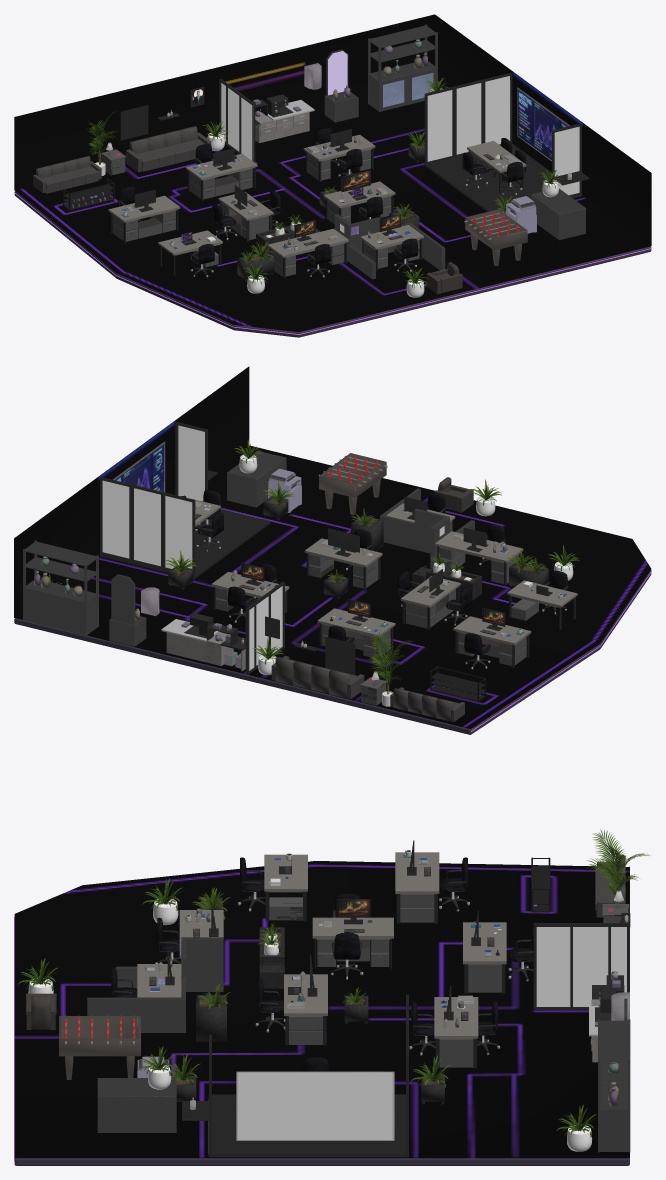
The model's file is office.desktop.1c16611fe181.glb.
The picture shows the model from 3 angles, top to bottom: view 1: azimuth 30°, elevation 25°; view 2: azimuth 150°, elevation 25°; view 3: azimuth 270°, elevation 25°; orthographic projection. The views are drawn at different scales.
Parts seen in each view (by area): view 1: Plane.005, wall 1, Plane.006, Plane.020, Cube.002, Desktop plinth, Cube.003, Plane.031, Cube.021, Cube.016, instance_1.002, instance_0.002 (+13 smaller); view 2: Plane.005, wall 1, Plane.006, Plane.020, Desktop plinth, Cube.002, Cube.003, Cube.016, Cube.021, Plane.031, instance_0.002, instance_1.002 (+10 smaller); view 3: Plane.005, wall 1, Plane.006, Cube.003, Plane.020, Desktop plinth, Cube.016, instance_1.002, instance_0.002, instance_2.002, instance_3.002, model_4 (+15 smaller).
Boxes of the visible parts, x1,y1,x2,y2 form: Plane.005: (14, 14, 651, 332); wall 1: (324, 24, 585, 279); Plane.006: (219, 72, 581, 211); Plane.020: (113, 149, 419, 276); Cube.002: (33, 126, 211, 193); Desktop plinth: (14, 191, 651, 337); Cube.003: (158, 192, 423, 278); Plane.031: (106, 63, 589, 239); Cube.021: (253, 94, 314, 143); Cube.016: (237, 141, 505, 281); instance_1.002: (108, 195, 180, 243); instance_0.002: (186, 153, 257, 201); Plane.005: (14, 366, 651, 729); wall 1: (23, 441, 474, 646); Plane.006: (100, 422, 284, 674); Plane.020: (216, 521, 526, 665); Desktop plinth: (14, 570, 651, 734); Cube.002: (271, 656, 464, 721); Cube.003: (386, 503, 577, 630); Cube.016: (168, 495, 548, 600); Cube.021: (161, 613, 245, 671); Plane.031: (141, 470, 533, 685); instance_0.002: (317, 608, 395, 658); instance_1.002: (453, 616, 531, 667); Plane.005: (14, 861, 629, 1158); wall 1: (59, 937, 630, 1152); Plane.006: (208, 923, 629, 1157); Cube.003: (137, 854, 393, 997); Plane.020: (289, 894, 501, 1067); Desktop plinth: (14, 1158, 629, 1165); Cube.016: (172, 897, 444, 1104); instance_1.002: (395, 852, 439, 923); instance_0.002: (463, 922, 506, 993); instance_2.002: (434, 997, 478, 1068); instance_3.002: (284, 974, 327, 1045); model_4: (586, 830, 650, 903).
Size of the model in its own units: 14.81 by 2.6 by 13.42.
33 materials, 28 textured.
